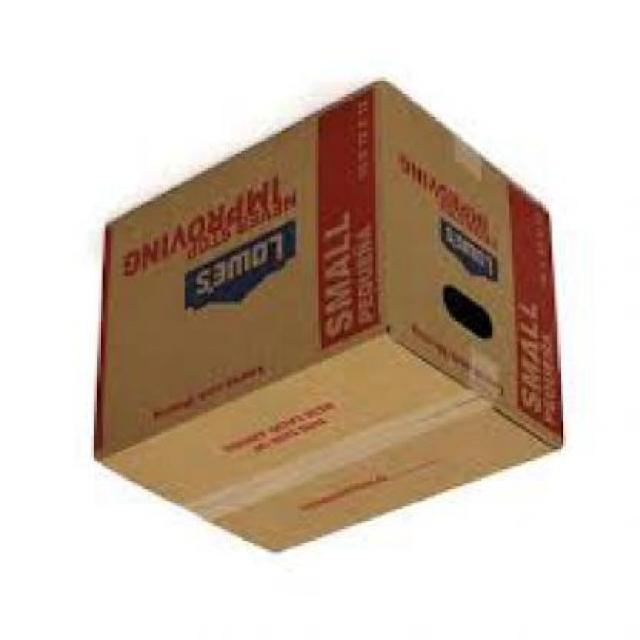box: (97, 80, 569, 555)
